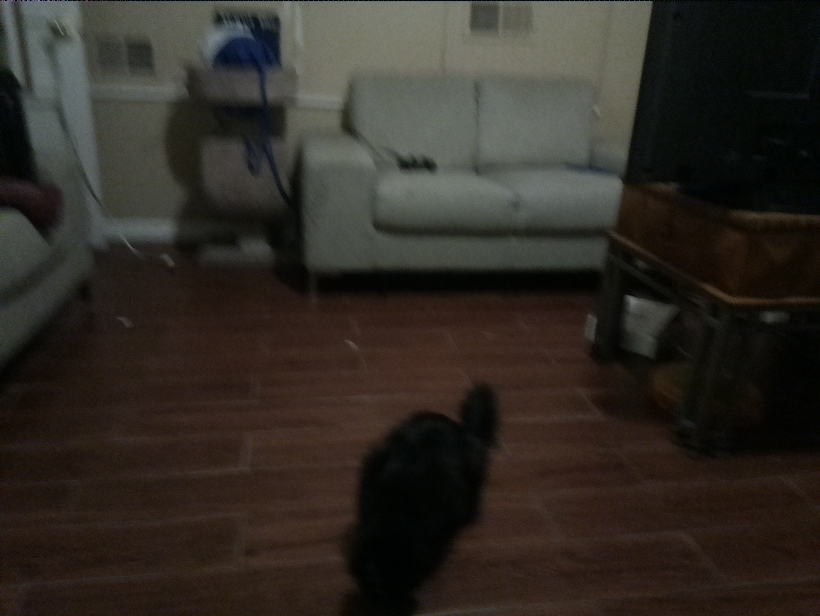cat: (340, 382, 504, 596)
